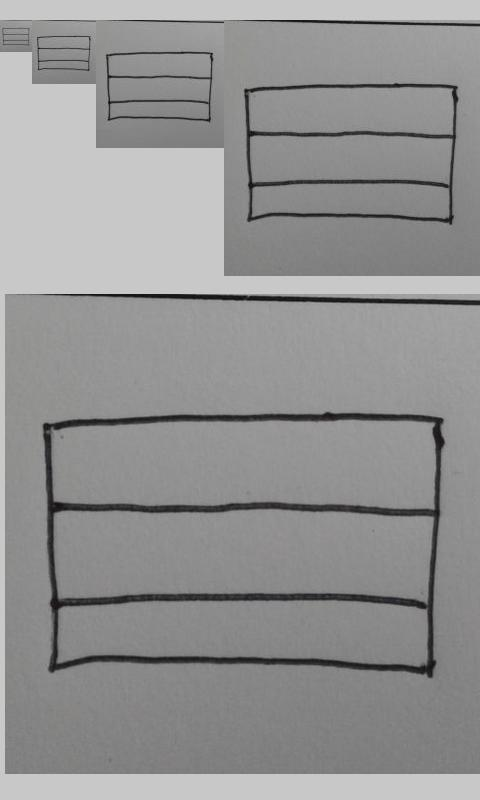list_view: (39, 409, 445, 674), (242, 82, 459, 226), (105, 50, 215, 124), (36, 35, 91, 71), (2, 27, 30, 46)
